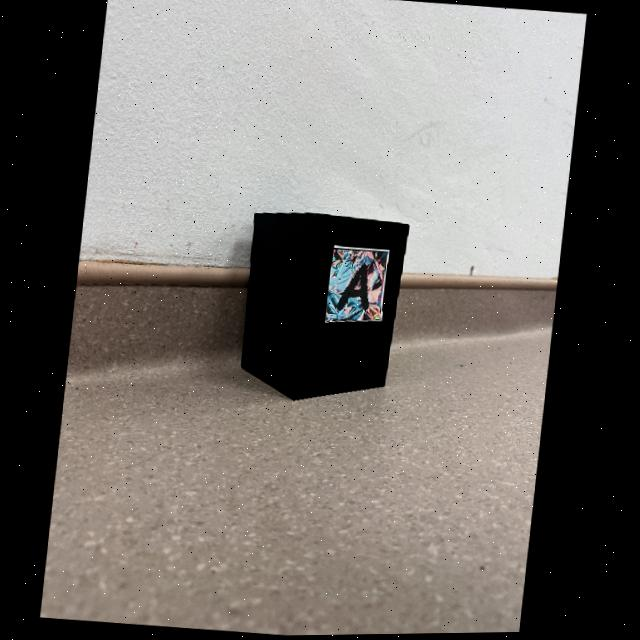A: (338, 265, 370, 312)
